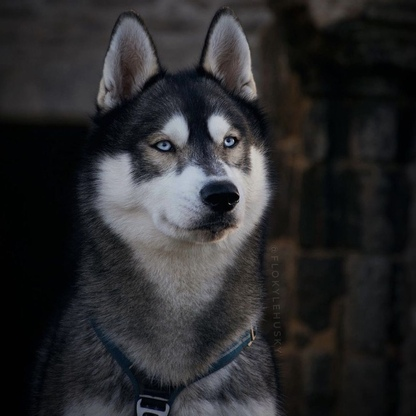husky: (40, 1, 299, 416)
